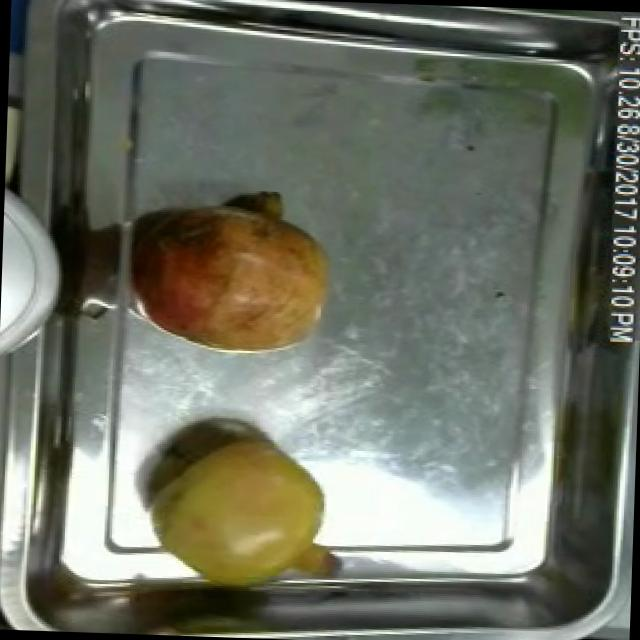fruit: (110, 185, 349, 367), (134, 423, 338, 594)
